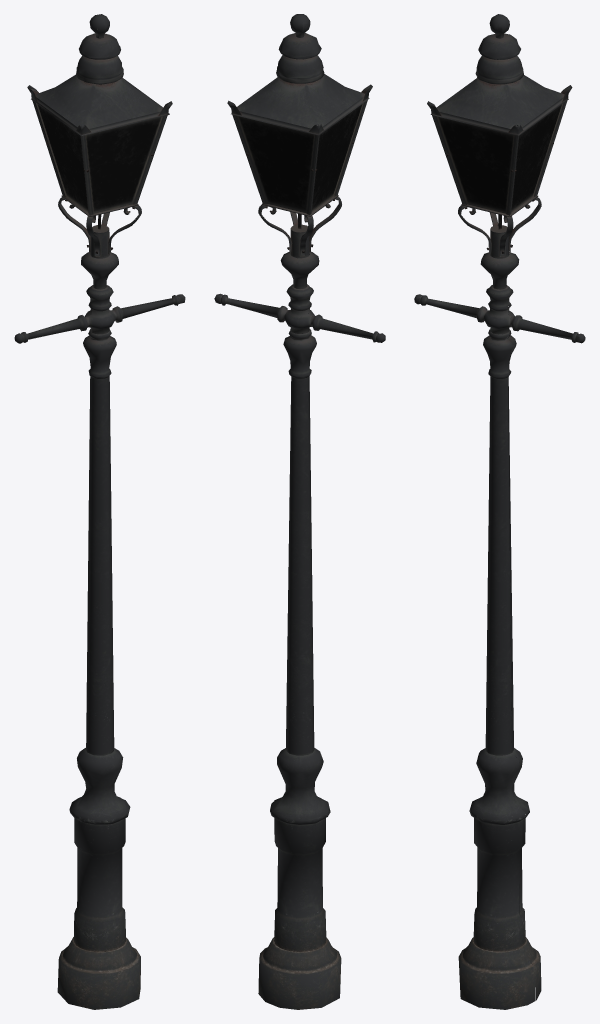
The model's file is street_lamp_01.glb.
The picture shows the model from 3 angles, left to right: view 1: azimuth 30°, elevation 25°; view 2: azimuth 150°, elevation 25°; view 3: azimuth 330°, elevation 25°; orthographic projection.
Visible parts, largest first — view 1: street_lamp_01; view 2: street_lamp_01; view 3: street_lamp_01.
Part boxes in pixels (box(x1,y1,x2,y2)): street_lamp_01: box(14, 14, 185, 1009); street_lamp_01: box(214, 14, 385, 1009); street_lamp_01: box(414, 14, 585, 1009).
Size of the model in its own units: 0.7047 by 3.87 by 0.3839.
3 materials, 3 textured.
